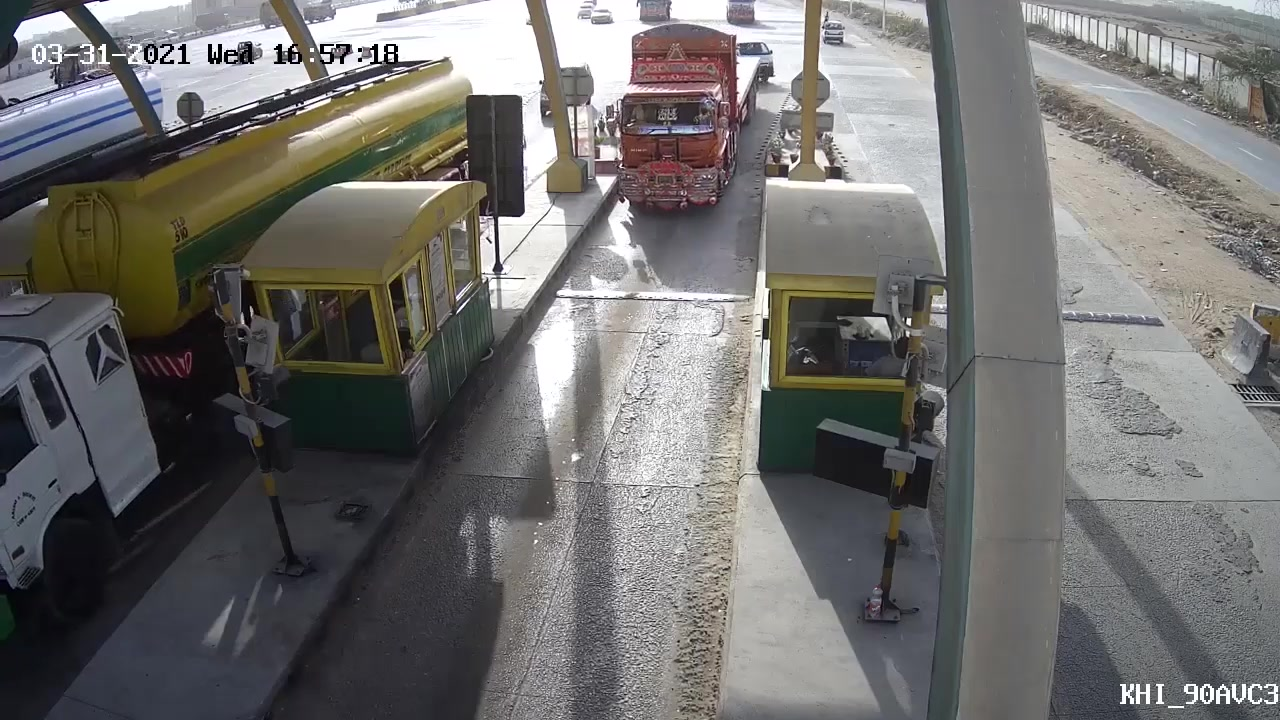F5: (607, 25, 752, 211)
